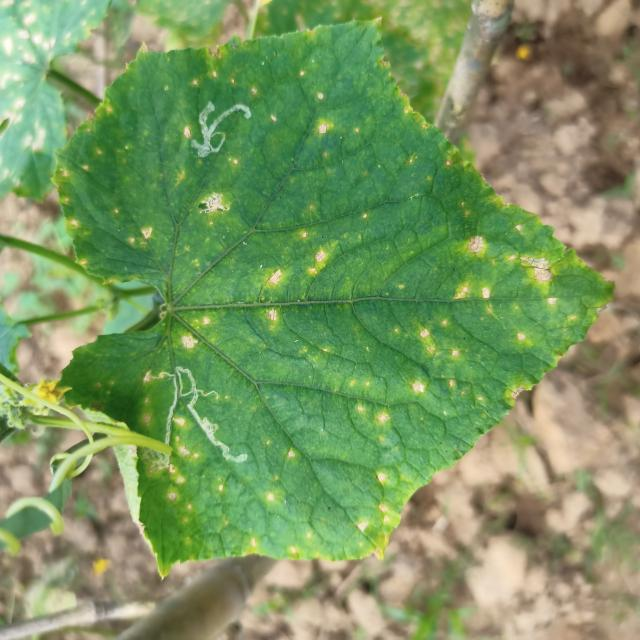disease_cucumber: (356, 178, 594, 499), (54, 192, 342, 386), (122, 412, 410, 574), (185, 60, 353, 142)
